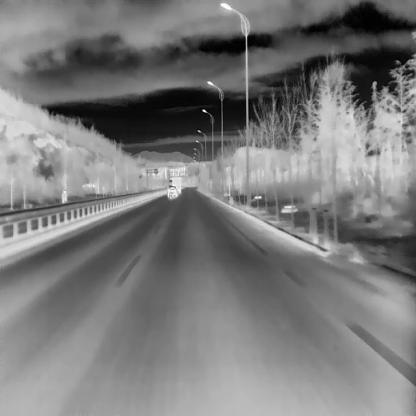car: (167, 186, 177, 198)
truck: (172, 176, 180, 192)
